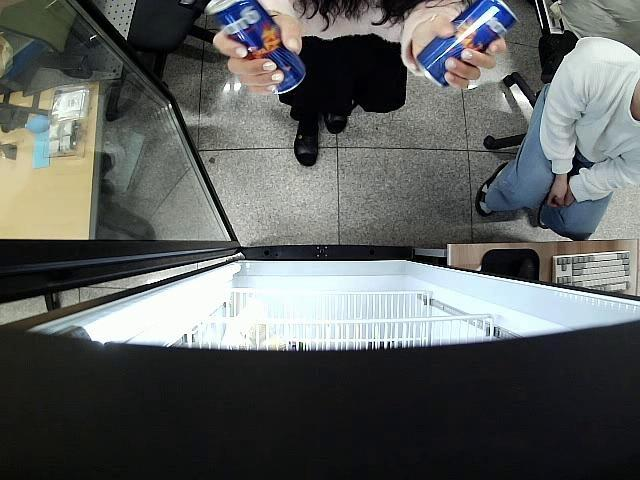16_hot6: (414, 0, 520, 91), (205, 0, 306, 95)
